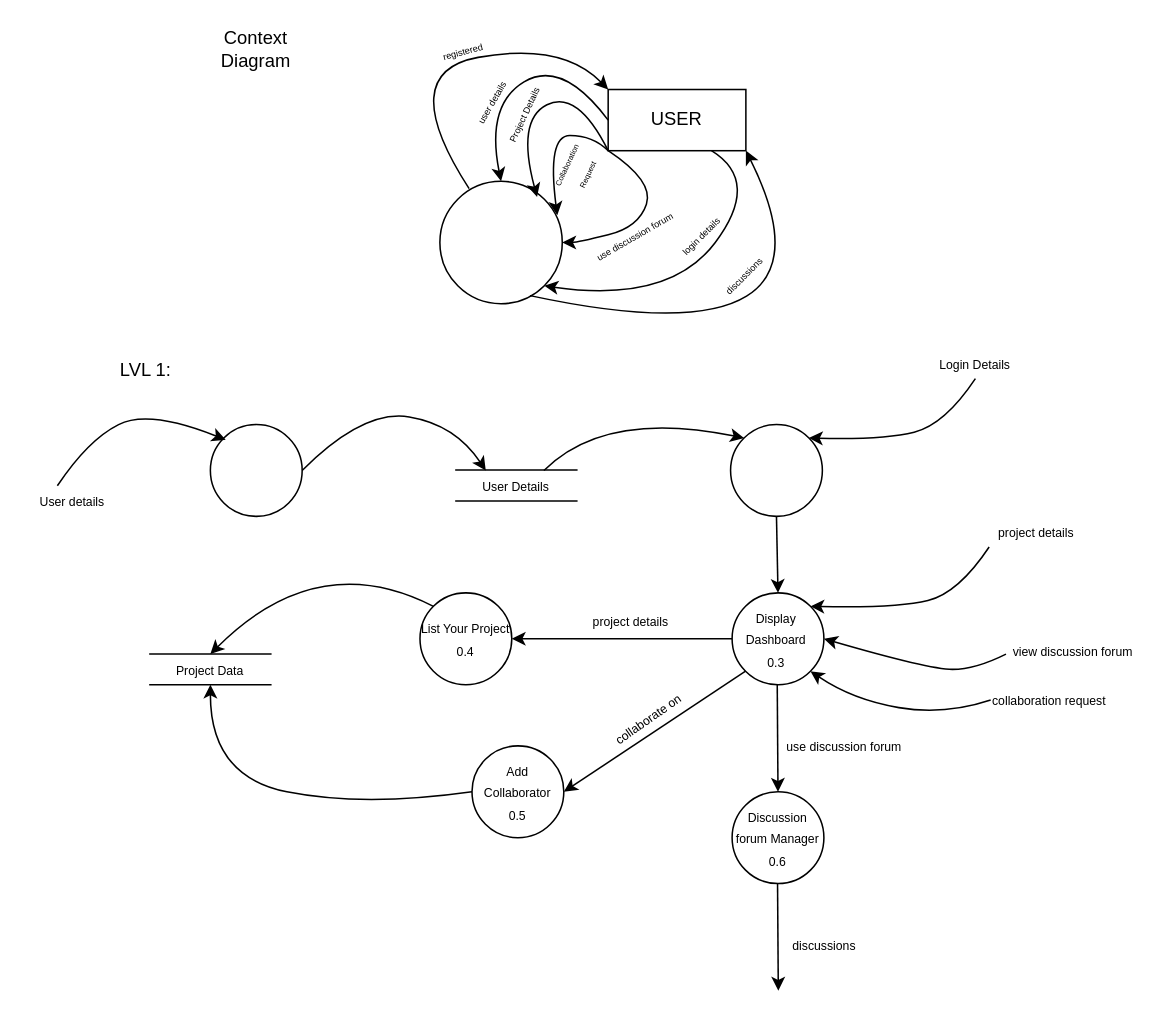
This 1169x1030 diagram has some shape labels left out. The box of each missing label's shape, as (x1, y1, x2, y2) in pixels:
Authentication 0.2: (729, 423, 822, 516)
PROJECT BUDDY SYSTEM 0: (438, 180, 562, 304)
User Registration 0.1: (209, 423, 302, 516)
